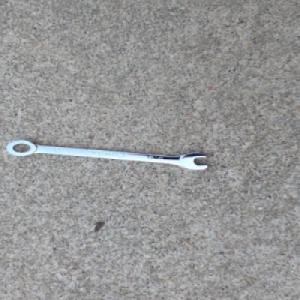Wrench: (5, 139, 211, 172)
